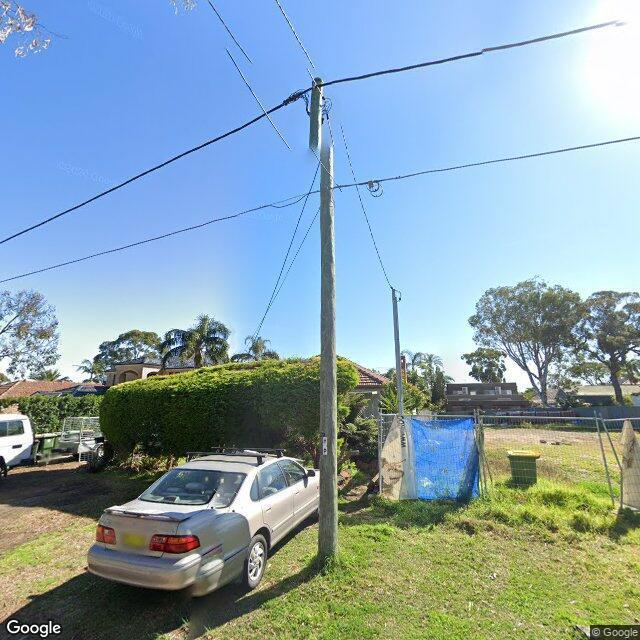timber-pole: (312, 79, 338, 563), (391, 289, 403, 411)
